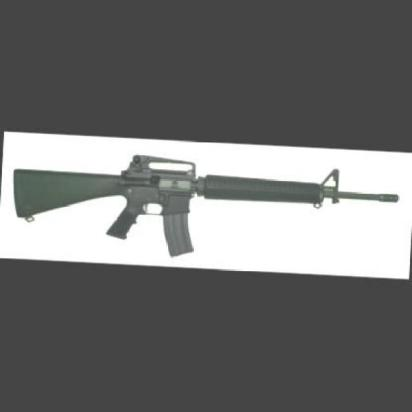Gun: (6, 144, 400, 270)
